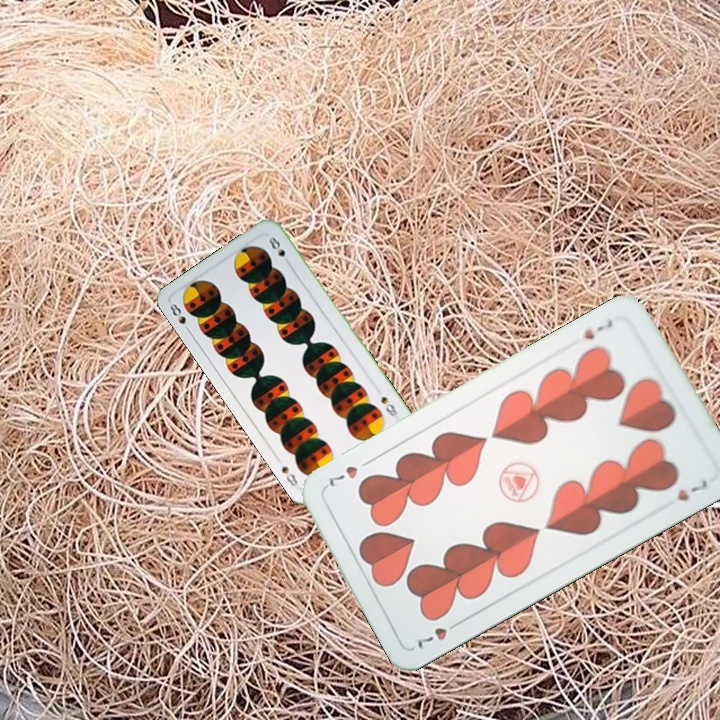H7: (413, 616, 464, 652), (579, 316, 616, 343)
S8: (164, 299, 194, 336), (377, 392, 402, 423)
